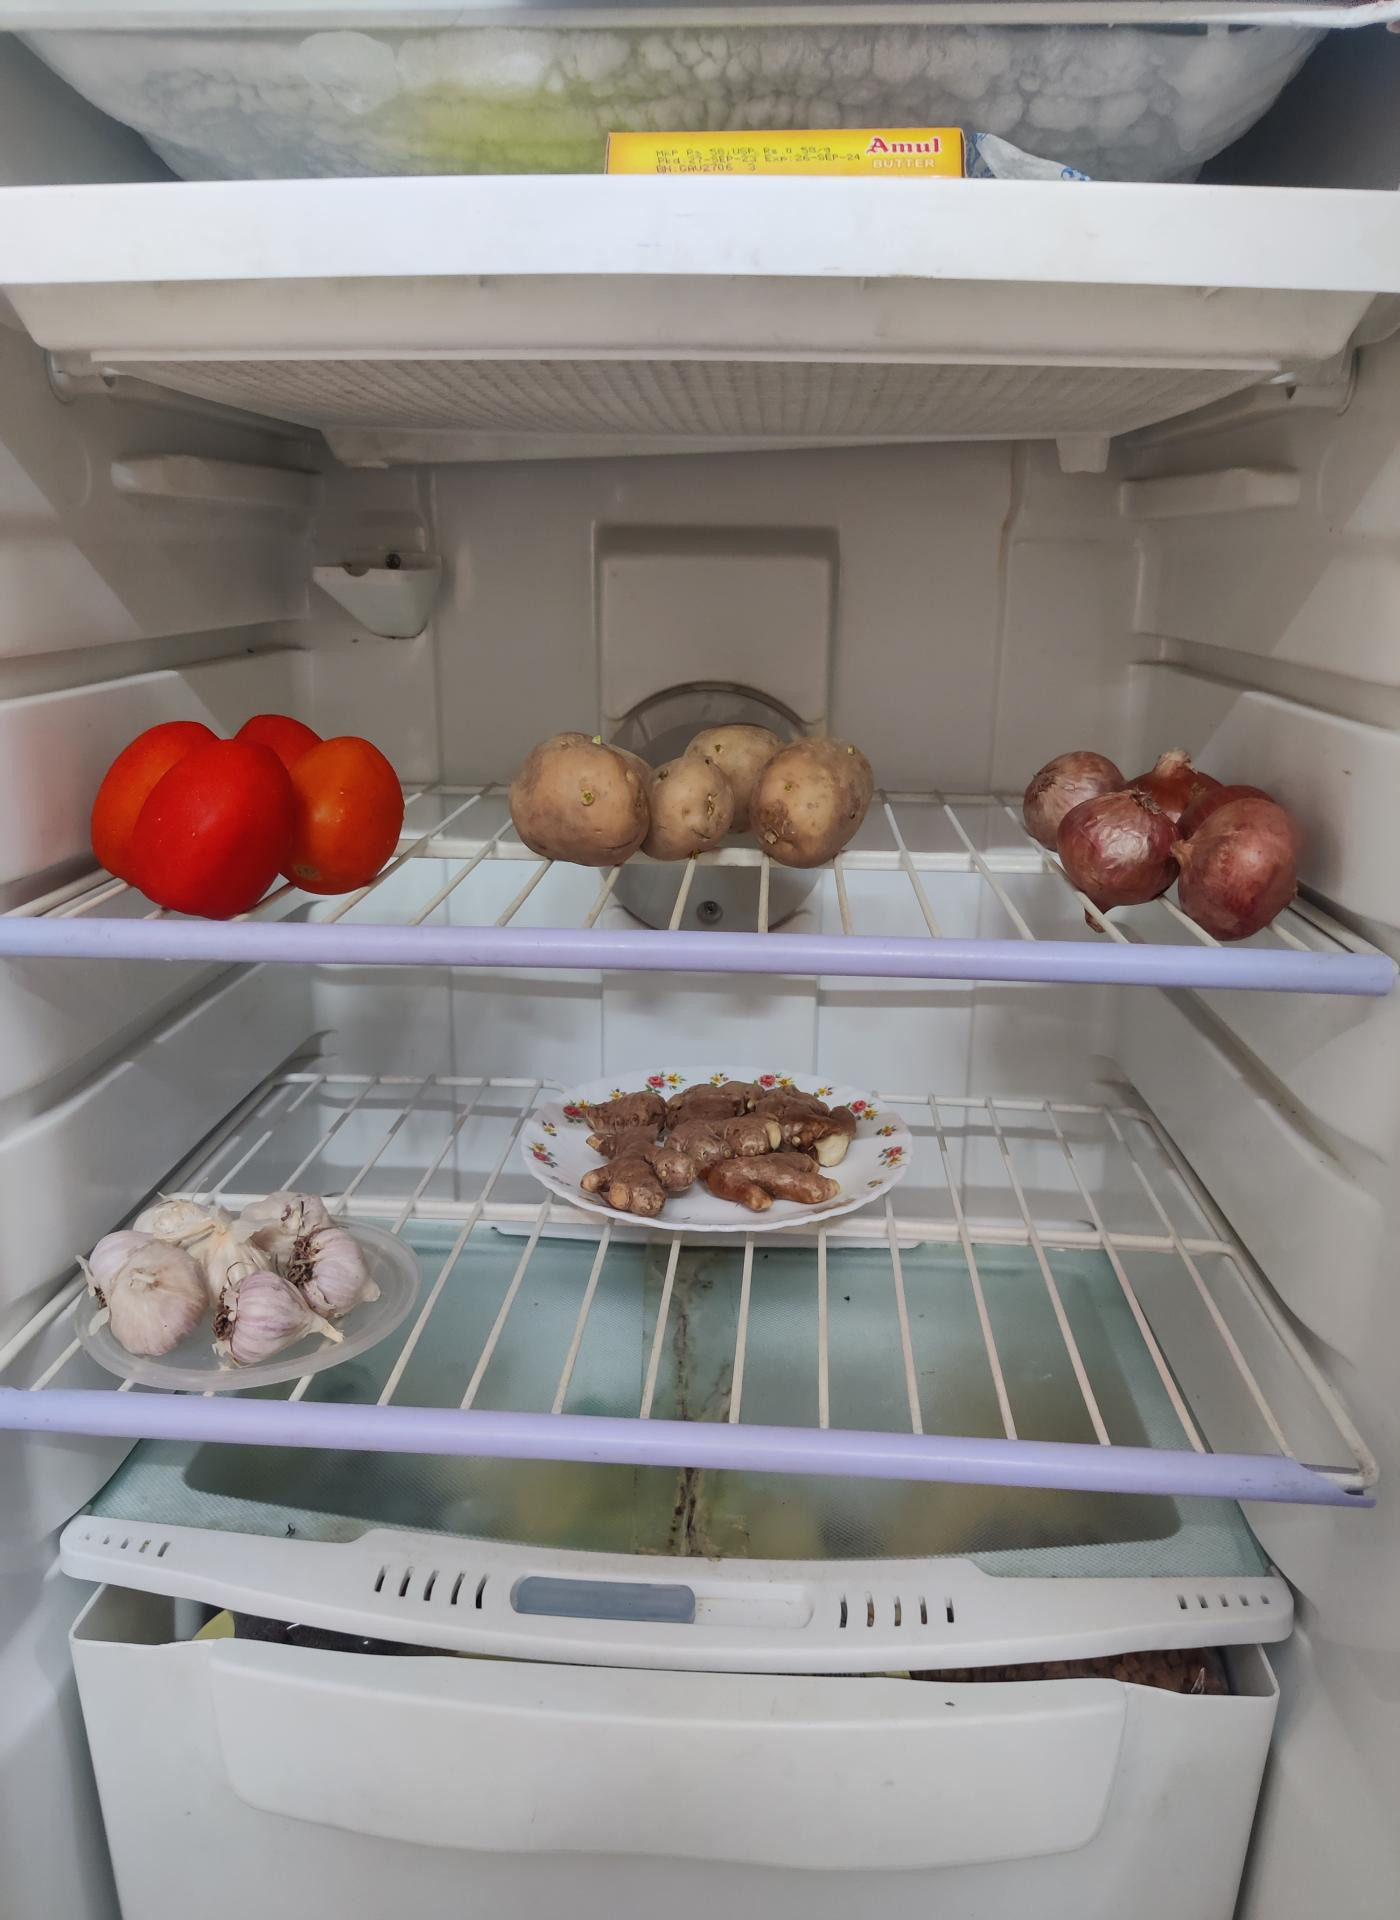garlic: (94, 1190, 380, 1358)
ginger: (540, 1075, 890, 1215)
onion: (1024, 742, 1306, 932)
potato: (516, 723, 883, 871)
tomato: (95, 714, 410, 912)
